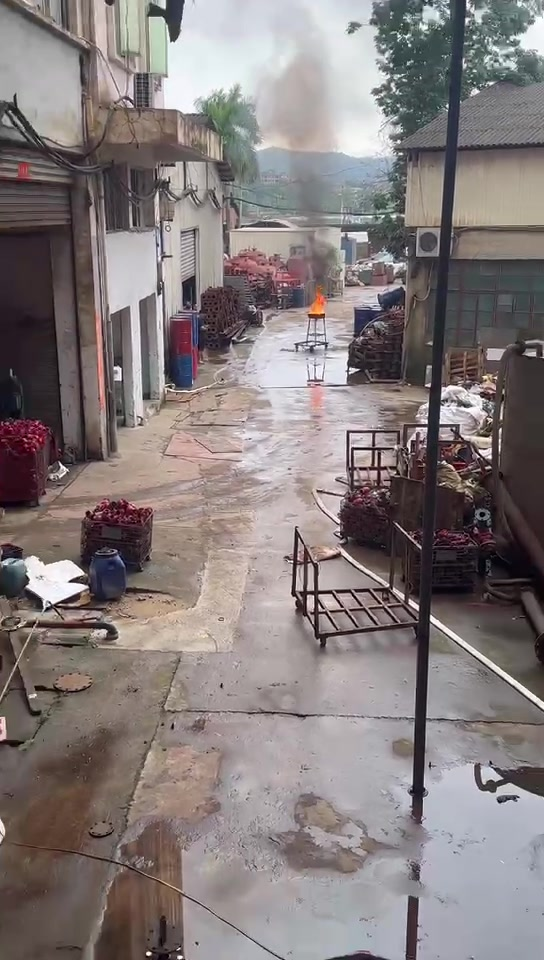fire: (308, 286, 324, 313)
